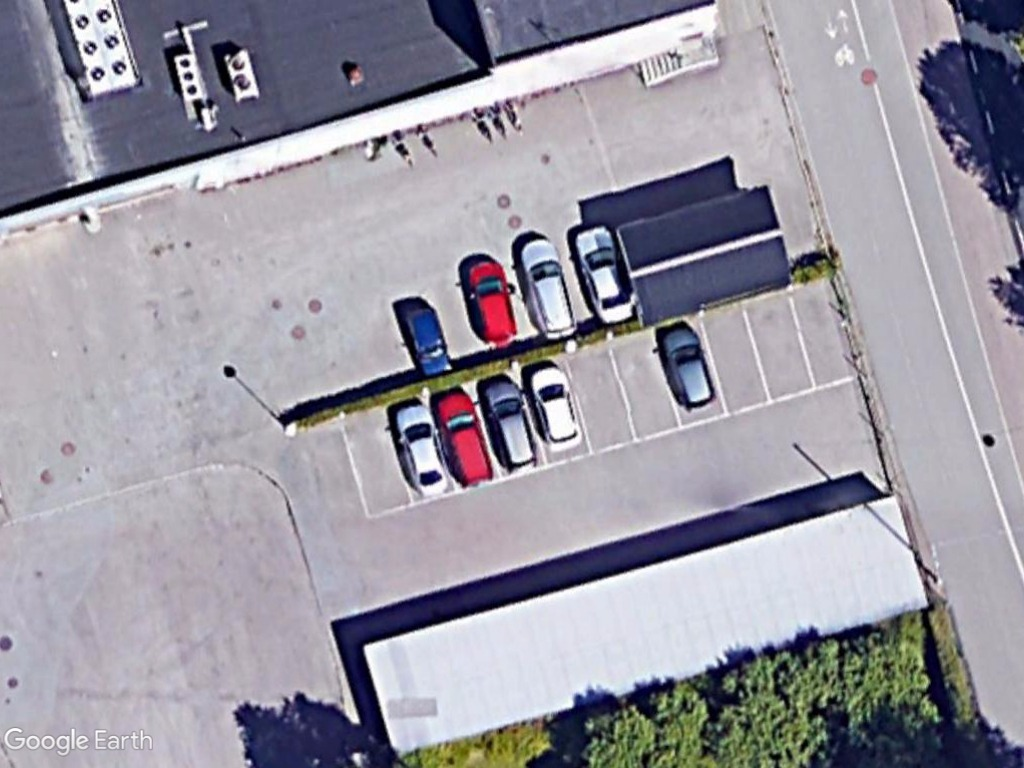car: (516, 234, 586, 346), (569, 222, 641, 326), (435, 389, 501, 494), (477, 376, 544, 477), (384, 398, 448, 501), (523, 362, 588, 457), (463, 252, 524, 352), (658, 322, 721, 415), (394, 296, 460, 384)
